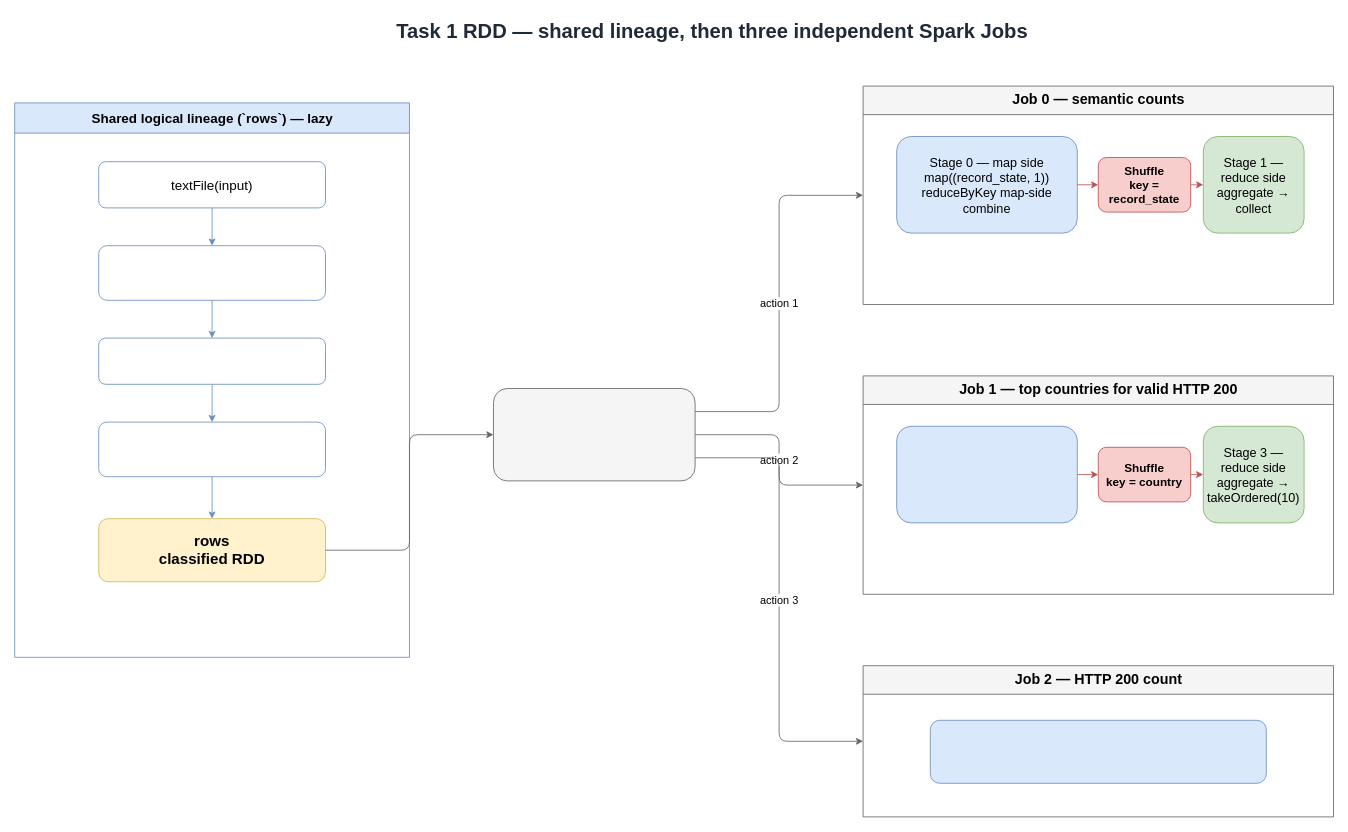
Some shapes in this 1348 by 832 pixel diagram are drawn without their labels. Here are the shapes that lost their labels. From the top down, the centre of each, then its label:
At (x=212, y=272): "flatMap split compound log lines".
At (x=212, y=360): "map(parse_log_entry)".
At (x=212, y=449): "map(classify) valid / malformed / unknown".
At (x=594, y=434): "Three actions each action starts an independent Job".
At (x=986, y=474): "Stage 2 — map side filter valid HTTP 200 map((country, 1)) reduceByKey combine".
At (x=1097, y=751): "Stage 4 — one narrow stage filter(http_status == 200) → count No shuffle".
